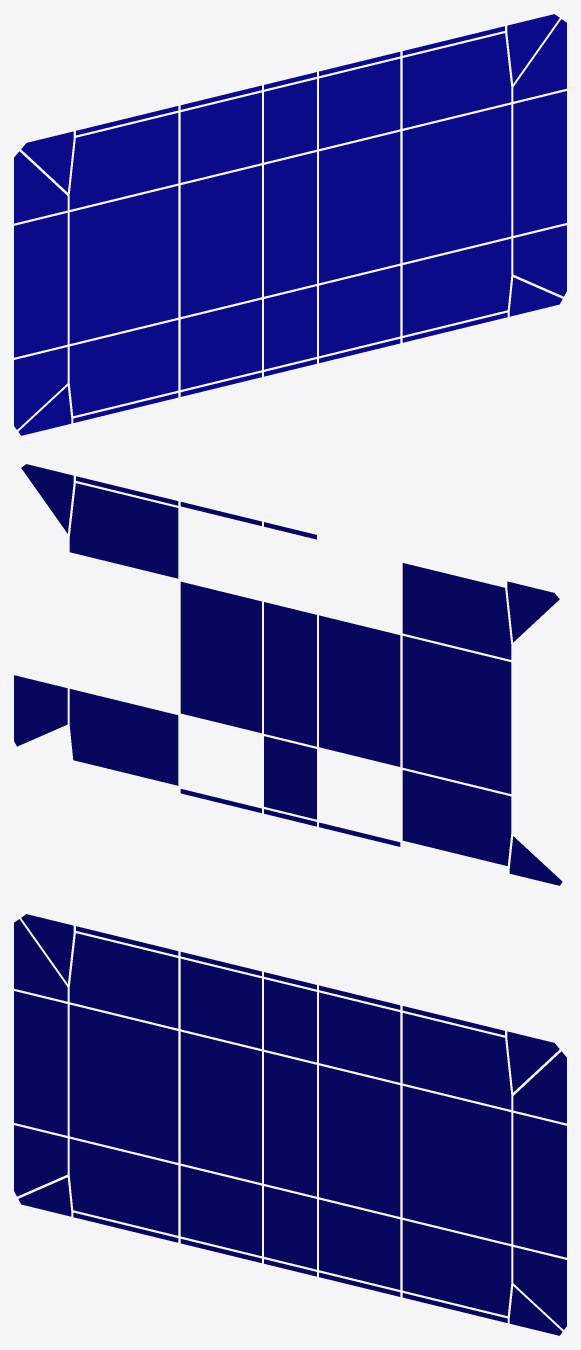
The model's file is TV_Display_Frag.fbx.
3 renders of one model, top to bottom at view 1: azimuth 30°, elevation 25°; view 2: azimuth 150°, elevation 25°; view 3: azimuth 330°, elevation 25°, orthographic.
Parts seen in each view (by area): view 1: TV_Frame.001_cell.008, TV_Frame.001_cell.013, TV_Frame.001_cell.005, TV_Frame.001_cell.004, TV_Frame.001_cell.030, TV_Frame.001_cell.019, TV_Frame.001_cell.029, TV_Frame.001_cell.020, TV_Frame.001_cell.014, TV_Frame.001_cell.002, TV_Frame.001_cell.006, TV_Frame.001_cell.031 (+17 smaller); view 2: TV_Frame.001_cell.013, TV_Frame.001_cell.005, TV_Frame.001_cell.004, TV_Frame.001_cell.030, TV_Frame.001_cell.019, TV_Frame.001_cell.029, TV_Frame.001_cell.020, TV_Frame.001_cell.006, TV_Frame.001_cell.028, TV_Frame.001_cell.026, TV_Frame.001_cell.018, TV_Frame.001_cell.034 (+2 smaller); view 3: TV_Frame.001_cell.013, TV_Frame.001_cell.008, TV_Frame.001_cell.004, TV_Frame.001_cell.005, TV_Frame.001_cell.019, TV_Frame.001_cell.030, TV_Frame.001_cell.020, TV_Frame.001_cell.029, TV_Frame.001_cell.014, TV_Frame.001_cell.002, TV_Frame.001_cell.006, TV_Frame.001_cell.016 (+17 smaller).
Boxes of the visible parts, bbox=[...] form: TV_Frame.001_cell.008: bbox=[402, 104, 511, 262]; TV_Frame.001_cell.013: bbox=[69, 186, 178, 343]; TV_Frame.001_cell.005: bbox=[180, 165, 261, 316]; TV_Frame.001_cell.004: bbox=[319, 131, 400, 283]; TV_Frame.001_cell.030: bbox=[402, 239, 511, 335]; TV_Frame.001_cell.019: bbox=[69, 320, 178, 415]; TV_Frame.001_cell.029: bbox=[69, 113, 178, 209]; TV_Frame.001_cell.020: bbox=[402, 33, 511, 128]; TV_Frame.001_cell.014: bbox=[513, 91, 566, 235]; TV_Frame.001_cell.002: bbox=[14, 213, 67, 357]; TV_Frame.001_cell.006: bbox=[264, 152, 316, 296]; TV_Frame.001_cell.031: bbox=[180, 299, 261, 389]; TV_Frame.001_cell.013: bbox=[402, 636, 511, 793]; TV_Frame.001_cell.005: bbox=[319, 615, 400, 766]; TV_Frame.001_cell.004: bbox=[180, 581, 261, 733]; TV_Frame.001_cell.030: bbox=[69, 689, 178, 785]; TV_Frame.001_cell.019: bbox=[402, 770, 511, 865]; TV_Frame.001_cell.029: bbox=[402, 563, 511, 659]; TV_Frame.001_cell.020: bbox=[69, 483, 178, 578]; TV_Frame.001_cell.006: bbox=[264, 602, 316, 746]; TV_Frame.001_cell.028: bbox=[264, 736, 316, 819]; TV_Frame.001_cell.026: bbox=[14, 675, 67, 746]; TV_Frame.001_cell.018: bbox=[21, 464, 73, 533]; TV_Frame.001_cell.034: bbox=[507, 581, 559, 642]; TV_Frame.001_cell.013: bbox=[69, 1004, 178, 1162]; TV_Frame.001_cell.008: bbox=[402, 1086, 511, 1243]; TV_Frame.001_cell.004: bbox=[319, 1065, 400, 1216]; TV_Frame.001_cell.005: bbox=[180, 1031, 261, 1183]; TV_Frame.001_cell.019: bbox=[69, 1139, 178, 1235]; TV_Frame.001_cell.030: bbox=[402, 1220, 511, 1315]; TV_Frame.001_cell.020: bbox=[402, 1013, 511, 1109]; TV_Frame.001_cell.029: bbox=[69, 933, 178, 1028]; TV_Frame.001_cell.014: bbox=[513, 1113, 566, 1257]; TV_Frame.001_cell.002: bbox=[14, 991, 67, 1135]; TV_Frame.001_cell.006: bbox=[264, 1052, 316, 1196]; TV_Frame.001_cell.016: bbox=[319, 1199, 400, 1289].
Bounding box in the file's own units: 50.64 × 25.53 × 7.18e-05.
